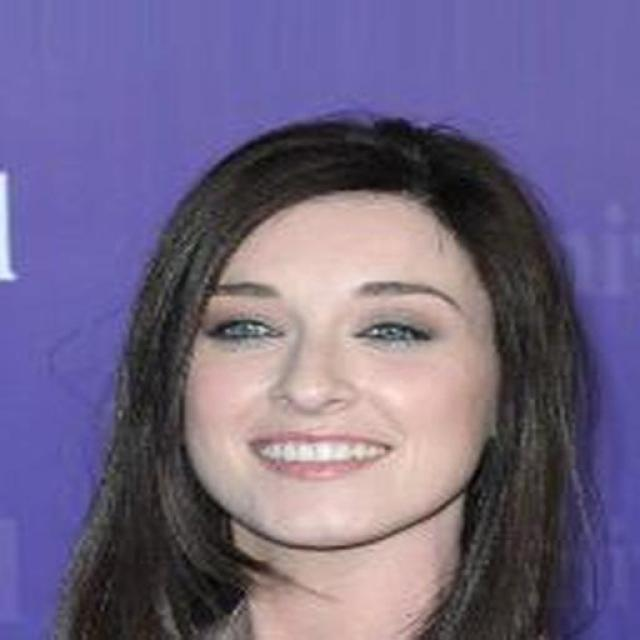bareface: (162, 129, 528, 552)
